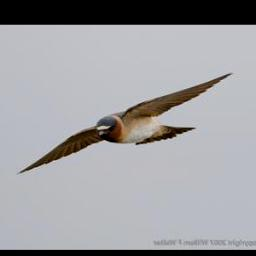Swallow: (17, 69, 235, 172)
